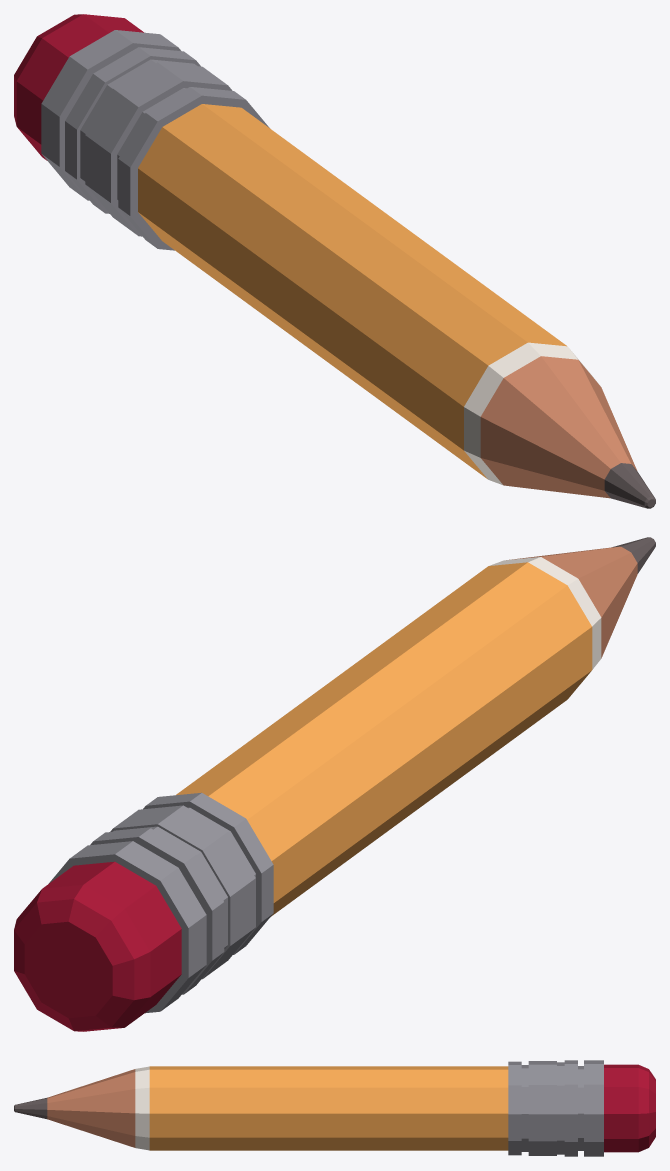
File: pencil.glb
3 views of the same model, one above another, from view 1: azimuth 30°, elevation 25°; view 2: azimuth 150°, elevation 25°; view 3: azimuth 270°, elevation 25° (orthographic). The views are drawn at different scales.
Parts seen in each view (by area): view 1: Cylinder; view 2: Cylinder; view 3: Cylinder.
Part boxes in pixels (x1=…): Cylinder: x1=14, y1=14, x2=655, y2=508; Cylinder: x1=14, y1=537, x2=655, y2=1031; Cylinder: x1=14, y1=1060, x2=655, y2=1156.
Bounding box in the file's own units: 0.6263 × 0.6586 × 4.3.
Materials: 1 (1 with a texture image).
